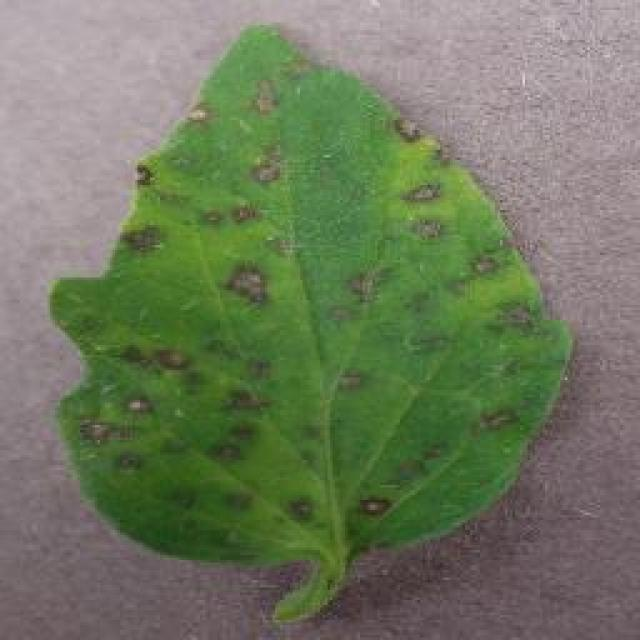Tomato Septoria spot leaf: (53, 21, 570, 572)
